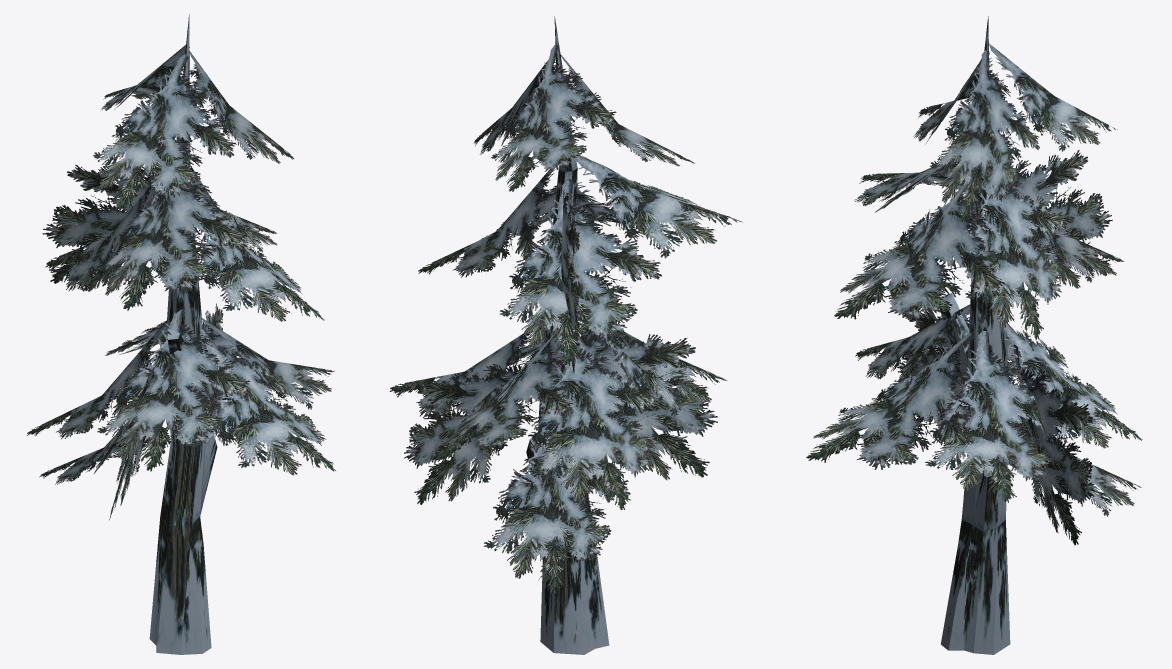
File: songshu_01.FBX
3 renders of one model, left to right at view 1: azimuth 30°, elevation 25°; view 2: azimuth 150°, elevation 25°; view 3: azimuth 270°, elevation 25°, orthographic. The views are drawn at different scales.
Parts seen in each view (by area): view 1: HuaShan_songshu01_colorkey; view 2: HuaShan_songshu01_colorkey; view 3: HuaShan_songshu01_colorkey.
Part boxes in pixels (<box>): HuaShan_songshu01_colorkey: <box>27,14,335,654</box>; HuaShan_songshu01_colorkey: <box>389,16,742,654</box>; HuaShan_songshu01_colorkey: <box>806,16,1142,654</box>.
Size of the model in its own units: 5.41 by 10.46 by 5.5.
